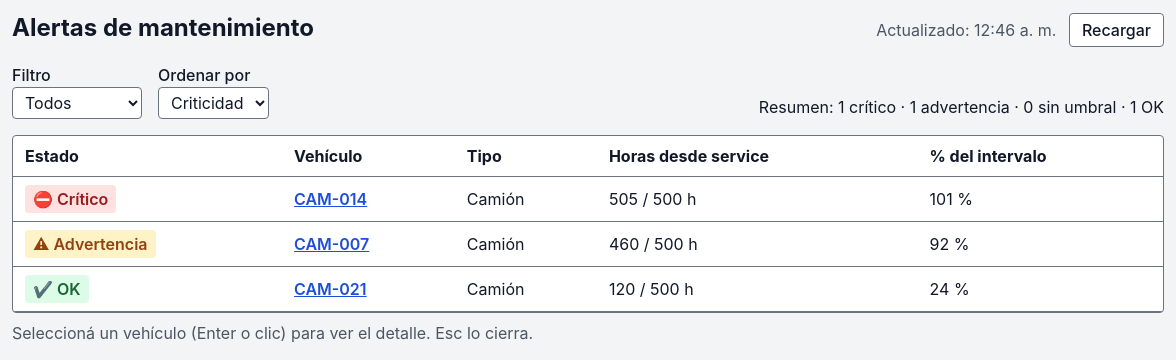
it: FleetAlertsPage › si el filtro no coincide con nada lo dice
Select "Sin umbral" in the dropdown labelled "Filtro". click: (77, 103)
box: left=12, top=87, right=142, bottom=119
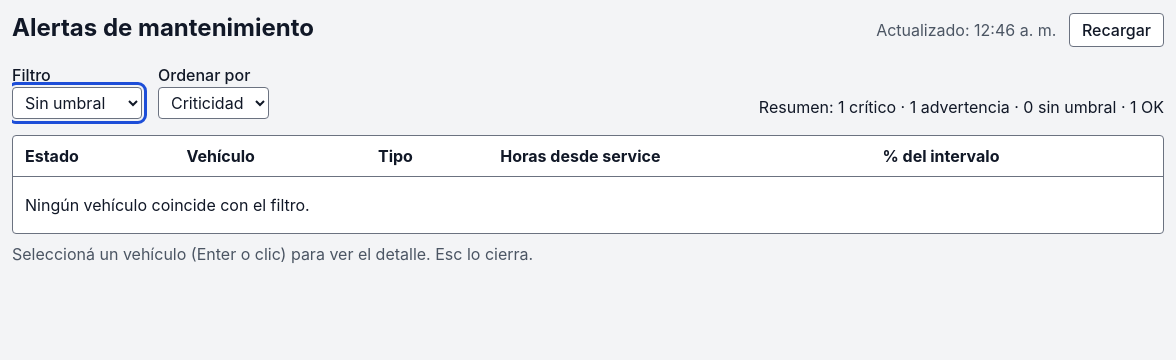
expect the text "Ningún vehículo coincide con el filtro." is shown: met, box left=13, top=177, right=1163, bottom=233
